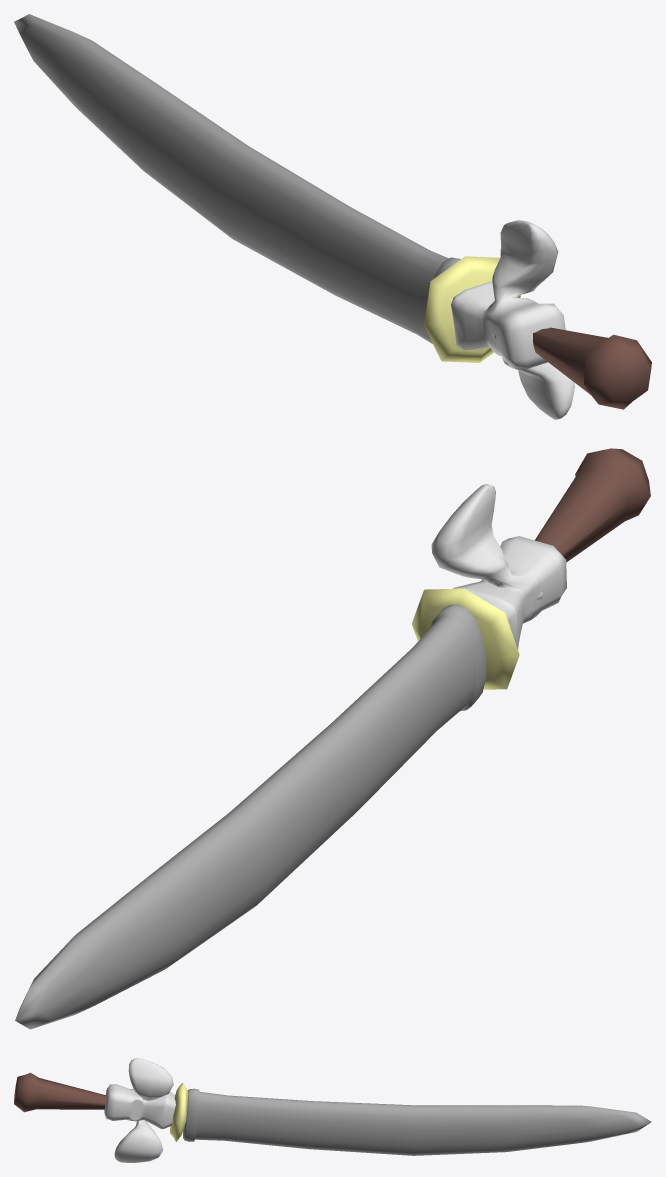
The picture shows the model from 3 angles, top to bottom: view 1: azimuth 30°, elevation 25°; view 2: azimuth 150°, elevation 25°; view 3: azimuth 270°, elevation 25°; orthographic projection. The views are drawn at different scales.
Visible parts, largest first — view 1: Scabbard, Katana1; view 2: Scabbard, Katana1; view 3: Scabbard, Katana1.
Part boxes in pixels (<box>): Scabbard: <box>14,14,460,343</box>; Katana1: <box>424,220,651,419</box>; Scabbard: <box>15,604,486,1029</box>; Katana1: <box>412,448,650,689</box>; Scabbard: <box>183,1088,651,1155</box>; Katana1: <box>14,1058,188,1162</box>.
Size of the model in its own units: 8.32 by 15.12 by 82.85.
